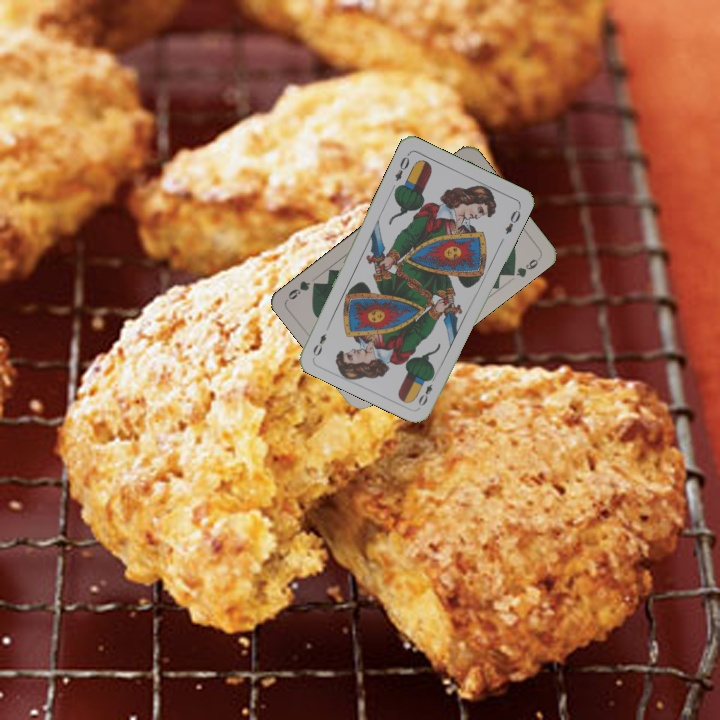EO: (414, 371, 439, 409), (391, 149, 412, 184)
